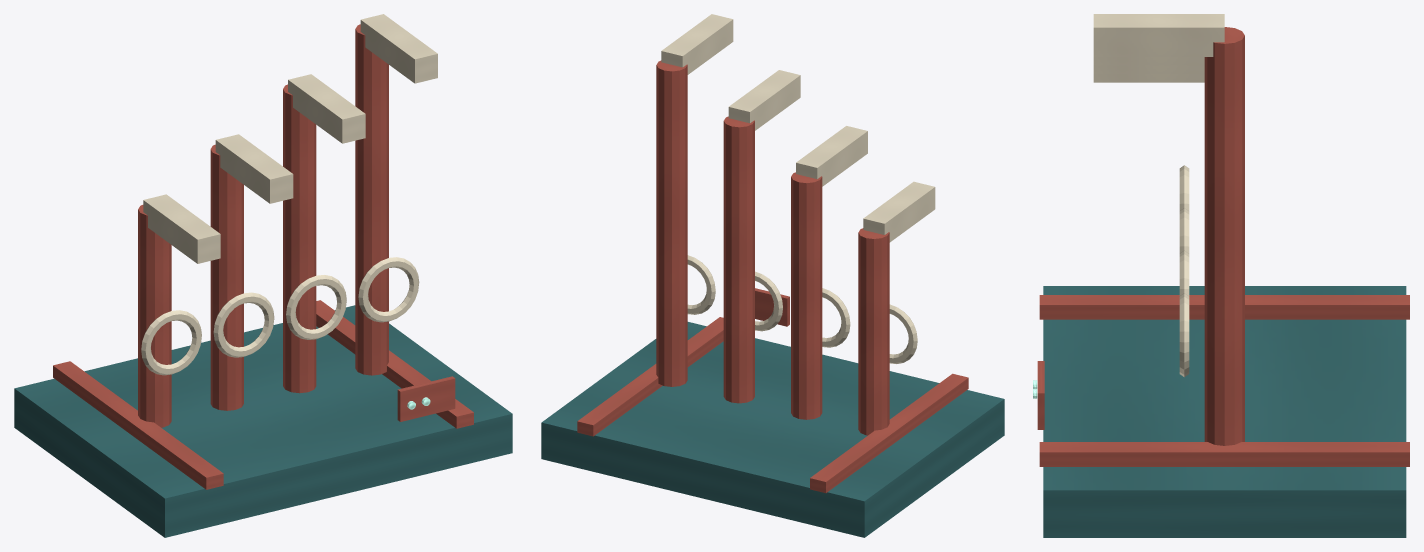
File: atlas100-s034-a03.glb
3 views of the same model, side by side, from view 1: azimuth 30°, elevation 25°; view 2: azimuth 150°, elevation 25°; view 3: azimuth 270°, elevation 25° (orthographic). The views are drawn at different scales.
Parts seen in each view (by area): view 1: atlas100-s034-a03:part-000, atlas100-s034-a03:part-012, atlas100-s034-a03:part-009, atlas100-s034-a03:part-006, atlas100-s034-a03:part-003, atlas100-s034-a03:part-001, atlas100-s034-a03:part-008, atlas100-s034-a03:part-005, atlas100-s034-a03:part-011, atlas100-s034-a03:part-014, atlas100-s034-a03:part-002, atlas100-s034-a03:part-015 (+4 smaller); view 2: atlas100-s034-a03:part-000, atlas100-s034-a03:part-012, atlas100-s034-a03:part-009, atlas100-s034-a03:part-006, atlas100-s034-a03:part-003, atlas100-s034-a03:part-001, atlas100-s034-a03:part-002, atlas100-s034-a03:part-005, atlas100-s034-a03:part-014, atlas100-s034-a03:part-011, atlas100-s034-a03:part-008, atlas100-s034-a03:part-015 (+4 smaller); view 3: atlas100-s034-a03:part-000, atlas100-s034-a03:part-012, atlas100-s034-a03:part-002, atlas100-s034-a03:part-001, atlas100-s034-a03:part-014, atlas100-s034-a03:part-005, atlas100-s034-a03:part-008, atlas100-s034-a03:part-011, atlas100-s034-a03:part-013, atlas100-s034-a03:part-015, atlas100-s034-a03:part-004, atlas100-s034-a03:part-007 (+1 smaller).
Part boxes in pixels (x1,y1,x2,y2): atlas100-s034-a03:part-000: (14,305,512,537); atlas100-s034-a03:part-012: (355,24,388,375); atlas100-s034-a03:part-009: (283,84,316,393); atlas100-s034-a03:part-006: (210,144,243,410); atlas100-s034-a03:part-003: (138,205,171,427); atlas100-s034-a03:part-001: (53,361,223,489); atlas100-s034-a03:part-008: (215,134,293,203); atlas100-s034-a03:part-005: (143,194,220,263); atlas100-s034-a03:part-011: (288,74,365,143); atlas100-s034-a03:part-014: (360,14,437,83); atlas100-s034-a03:part-002: (316,300,473,428); atlas100-s034-a03:part-015: (397,376,455,421); atlas100-s034-a03:part-000: (541,322,1004,537); atlas100-s034-a03:part-012: (656,60,687,386); atlas100-s034-a03:part-009: (723,116,754,403); atlas100-s034-a03:part-006: (791,172,822,419); atlas100-s034-a03:part-003: (858,228,889,435); atlas100-s034-a03:part-001: (810,373,968,493); atlas100-s034-a03:part-002: (577,317,723,436); atlas100-s034-a03:part-005: (863,181,935,242); atlas100-s034-a03:part-014: (661,14,733,74); atlas100-s034-a03:part-011: (728,70,800,130); atlas100-s034-a03:part-008: (796,126,867,186); atlas100-s034-a03:part-015: (755,288,789,326); atlas100-s034-a03:part-000: (1043,286,1406,537); atlas100-s034-a03:part-012: (1204,27,1244,445); atlas100-s034-a03:part-002: (1039,442,1409,466); atlas100-s034-a03:part-001: (1039,295,1409,319); atlas100-s034-a03:part-014: (1093,14,1224,56); atlas100-s034-a03:part-005: (1093,74,1204,82); atlas100-s034-a03:part-008: (1093,65,1204,73); atlas100-s034-a03:part-011: (1093,57,1204,65); atlas100-s034-a03:part-013: (1179,293,1189,377); atlas100-s034-a03:part-015: (1037,361,1044,429); atlas100-s034-a03:part-004: (1179,165,1189,210); atlas100-s034-a03:part-007: (1179,208,1189,253).
Bounding box in the file's own units: 2.4 × 2.62 × 1.87.
Materials: 4 (4 with a texture image).
